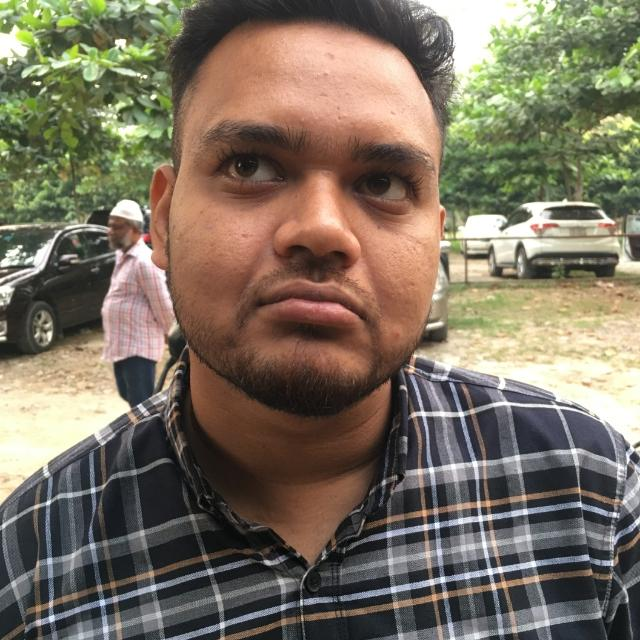Sad: (133, 54, 498, 416)
